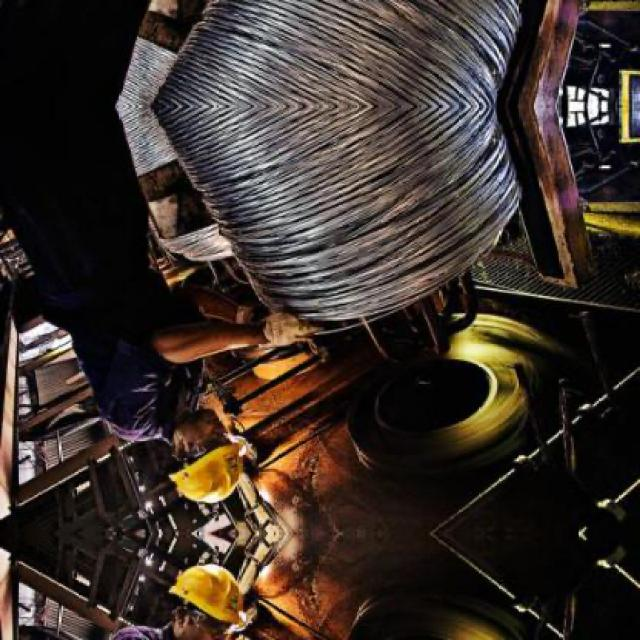con casco: (128, 412, 278, 530)
